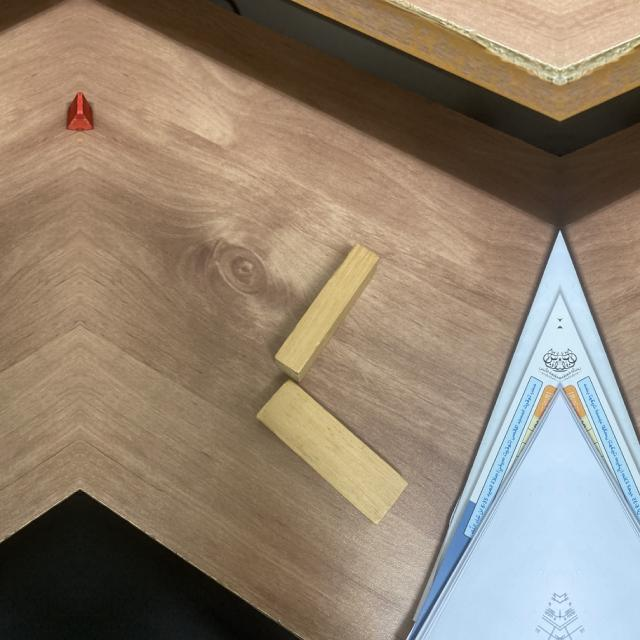jenga: (258, 382, 409, 526), (274, 246, 379, 380)
red cube: (80, 90, 94, 135), (66, 90, 80, 135)
